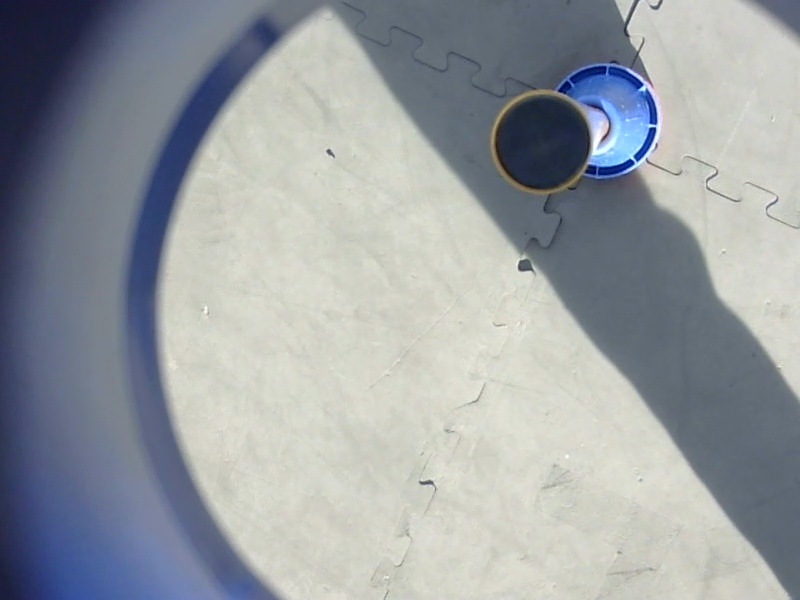tip: (482, 81, 601, 202)
